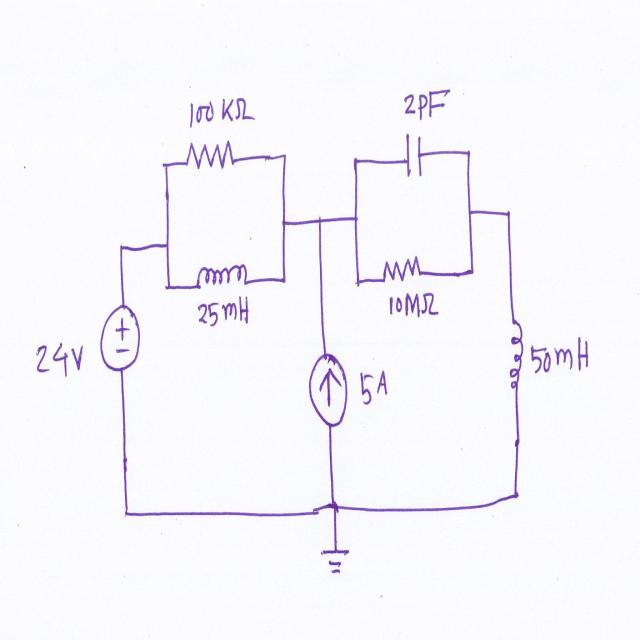capacitor: (404, 127, 424, 182)
current_source: (308, 342, 350, 432)
ground: (317, 539, 357, 592)
inductor: (192, 259, 252, 291), (507, 314, 525, 400)
resistor: (184, 135, 236, 176), (381, 254, 424, 288)
voltage_source: (95, 302, 145, 376)
